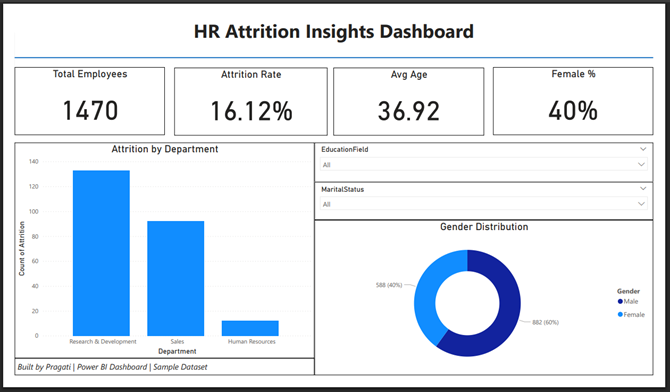

Layout of this report page (visuals, bound fields, positions):
{"tool":"powerbi","page":{"name":"Overview","canvas":[1280,720],"ordinal":0},"visuals":[{"type":"card","title":"Total Employees","fields":{"Values":["CountNonNull(HR_Attrition.EmployeeCount)"]},"box":[0,102.9,300.5,135.8],"z":0},{"type":"card","title":"Attrition Rate","fields":{"Values":["HR_Attrition.Attrition Rate"]},"box":[319.7,104.3,307.4,135.8],"z":1000},{"type":"card","title":"Avg Age","fields":{"Values":["HR_Attrition.Avg Age"]},"box":[639.5,104.3,301.9,135.8],"z":2000},{"type":"card","title":"Female %","fields":{"Values":["HR_Attrition.% Female"]},"box":[959.2,102.9,321.1,135.8],"z":3000},{"type":"columnChart","title":"Attrition by Department","fields":{"Category":["HR_Attrition.Department"],"Y":["CountNonNull(HR_Attrition.Attrition)"]},"box":[0,253.9,601,432.2],"z":4000},{"type":"donutChart","title":"Gender Distribution","fields":{"Category":["HR_Attrition.Gender"],"Y":["CountNonNull(HR_Attrition.EmployeeCount)"]},"box":[601,408.9,679.2,311.5],"z":5000},{"type":"textbox","box":[0,0,1280.3,83.7],"z":6000},{"type":"slicer","fields":{"Values":["HR_Attrition.EducationField"]},"box":[601,253.9,679.2,79.6],"z":7000},{"type":"slicer","fields":{"Values":["HR_Attrition.MaritalStatus"]},"box":[601,333.4,679.2,75.5],"z":8000},{"type":"shape","box":[0,64.5,1280.3,39.8],"z":9000},{"type":"textbox","box":[0,685,601.7,33.3],"z":9001}]}

Visuals, with their boxes in screenshot pixels (x1, y1, x2, y2):
"Total Employees" card: pyautogui.locateOnScreen(2, 55, 157, 125)
"Attrition Rate" card: pyautogui.locateOnScreen(167, 56, 325, 126)
"Avg Age" card: pyautogui.locateOnScreen(332, 56, 488, 126)
"Female %" card: pyautogui.locateOnScreen(497, 55, 663, 125)
"Attrition by Department" columnChart: pyautogui.locateOnScreen(2, 133, 312, 356)
"Gender Distribution" donutChart: pyautogui.locateOnScreen(312, 213, 663, 374)
textbox: pyautogui.locateOnScreen(2, 2, 663, 45)
slicer - HR_Attrition.EducationField: pyautogui.locateOnScreen(312, 133, 663, 174)
slicer - HR_Attrition.MaritalStatus: pyautogui.locateOnScreen(312, 174, 663, 213)
shape: pyautogui.locateOnScreen(2, 35, 663, 56)
textbox: pyautogui.locateOnScreen(2, 355, 312, 373)
